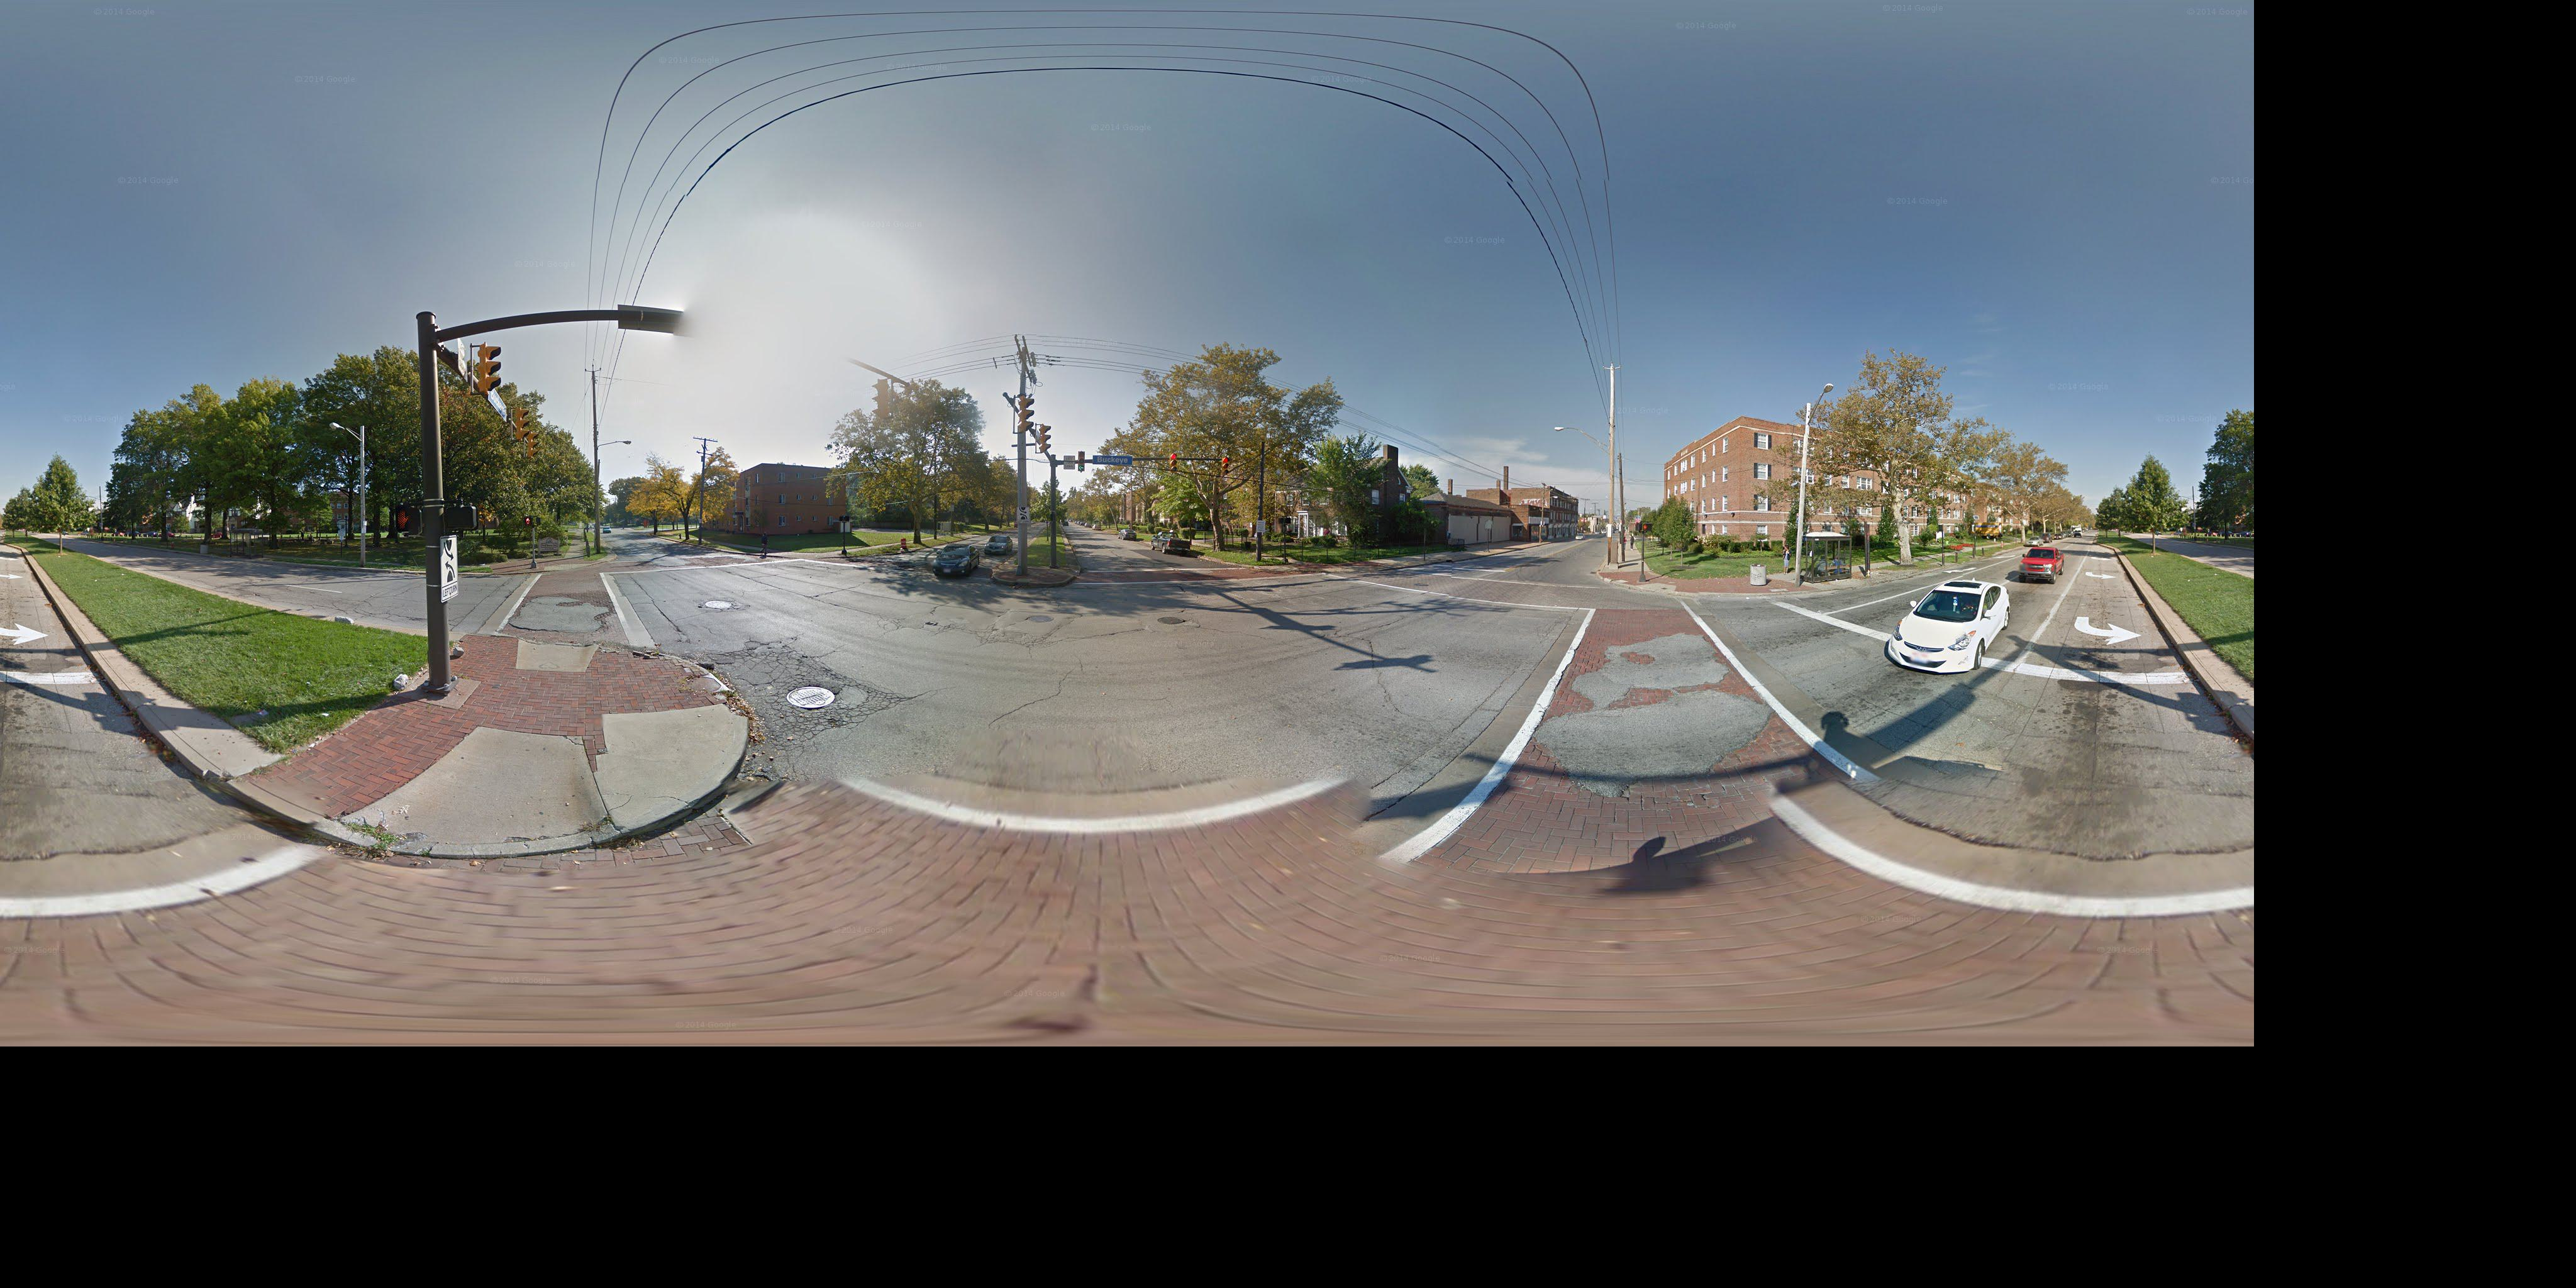Curb Ramp: (534, 554, 600, 582), (1263, 562, 1295, 577), (797, 550, 821, 563)
Irregular Ramp: (371, 746, 641, 890), (501, 626, 613, 677), (1329, 559, 1375, 578), (1635, 580, 1674, 603)
Missing Curb Ramp: (744, 547, 792, 562)
